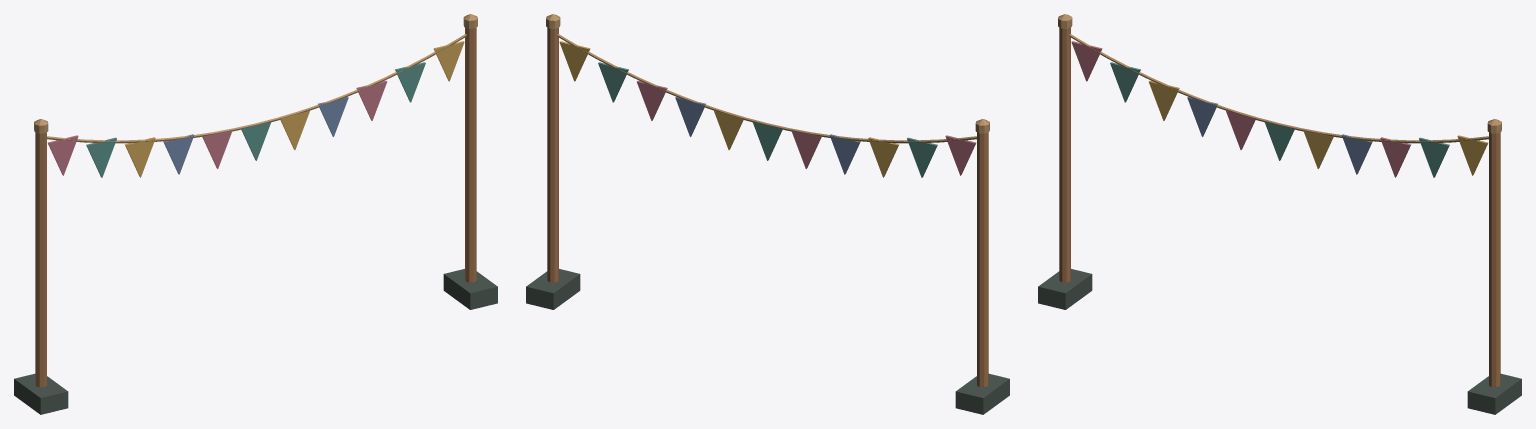
File: festival_bunting.glb
The picture shows the model from 3 angles, left to right: view 1: azimuth 30°, elevation 25°; view 2: azimuth 150°, elevation 25°; view 3: azimuth 330°, elevation 25°; orthographic projection.
Parts seen in each view (by area): view 1: geometry; view 2: geometry; view 3: geometry.
Boxes of the visible parts, x1,y1,x2,y2 form: geometry: (14,14,497,414); geometry: (526,14,1009,414); geometry: (1038,14,1521,414).
Size of the model in its own units: 3.98 by 2.36 by 0.4.
